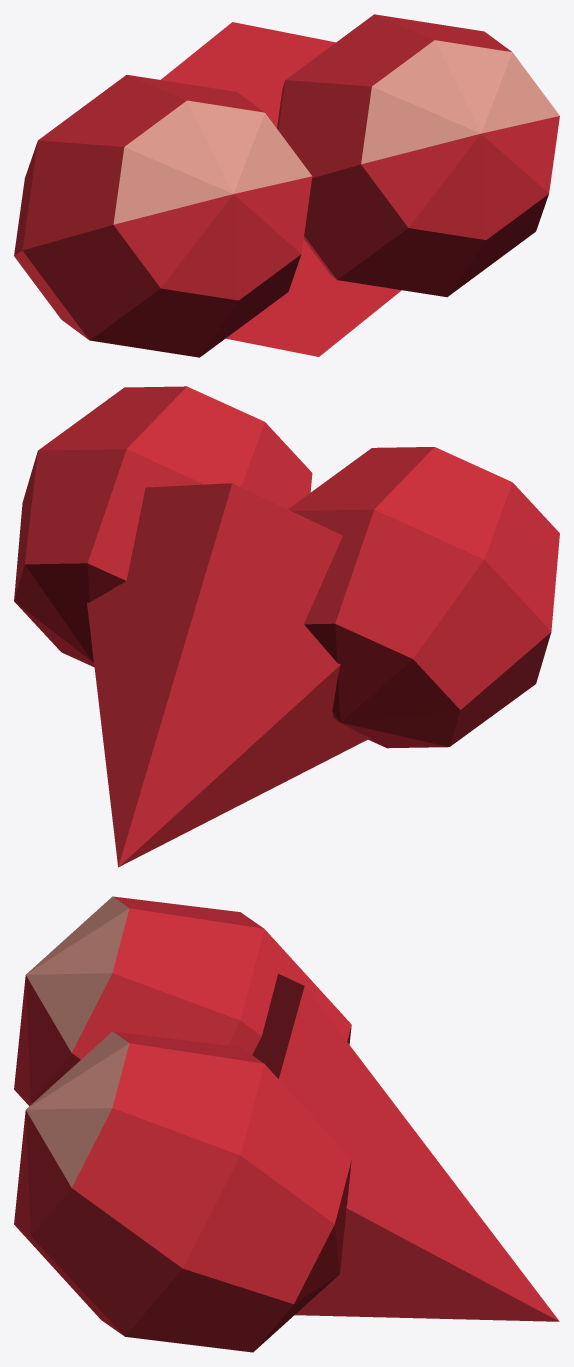
Rendered from heart_pickup.glb.
3 views of the same model, one above another, from view 1: azimuth 30°, elevation 25°; view 2: azimuth 150°, elevation 25°; view 3: azimuth 270°, elevation 25° (orthographic). The views are drawn at different scales.
Visible parts, largest first — view 1: HeartPickup; view 2: HeartPickup; view 3: HeartPickup.
Part boxes in pixels (x1,y1,x2,y2): HeartPickup: [14, 14, 559, 357]; HeartPickup: [14, 386, 559, 867]; HeartPickup: [14, 896, 559, 1352].
Size of the model in its own units: 0.47 by 0.2631 by 0.3761.
